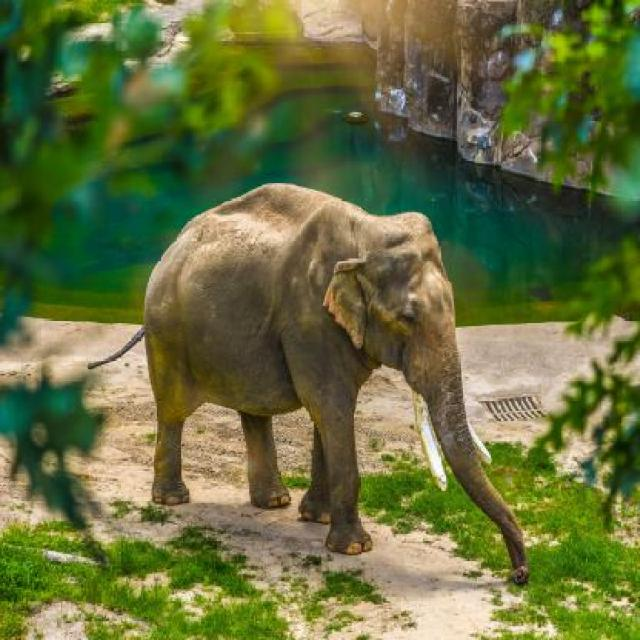Elephant: (75, 173, 540, 585)
